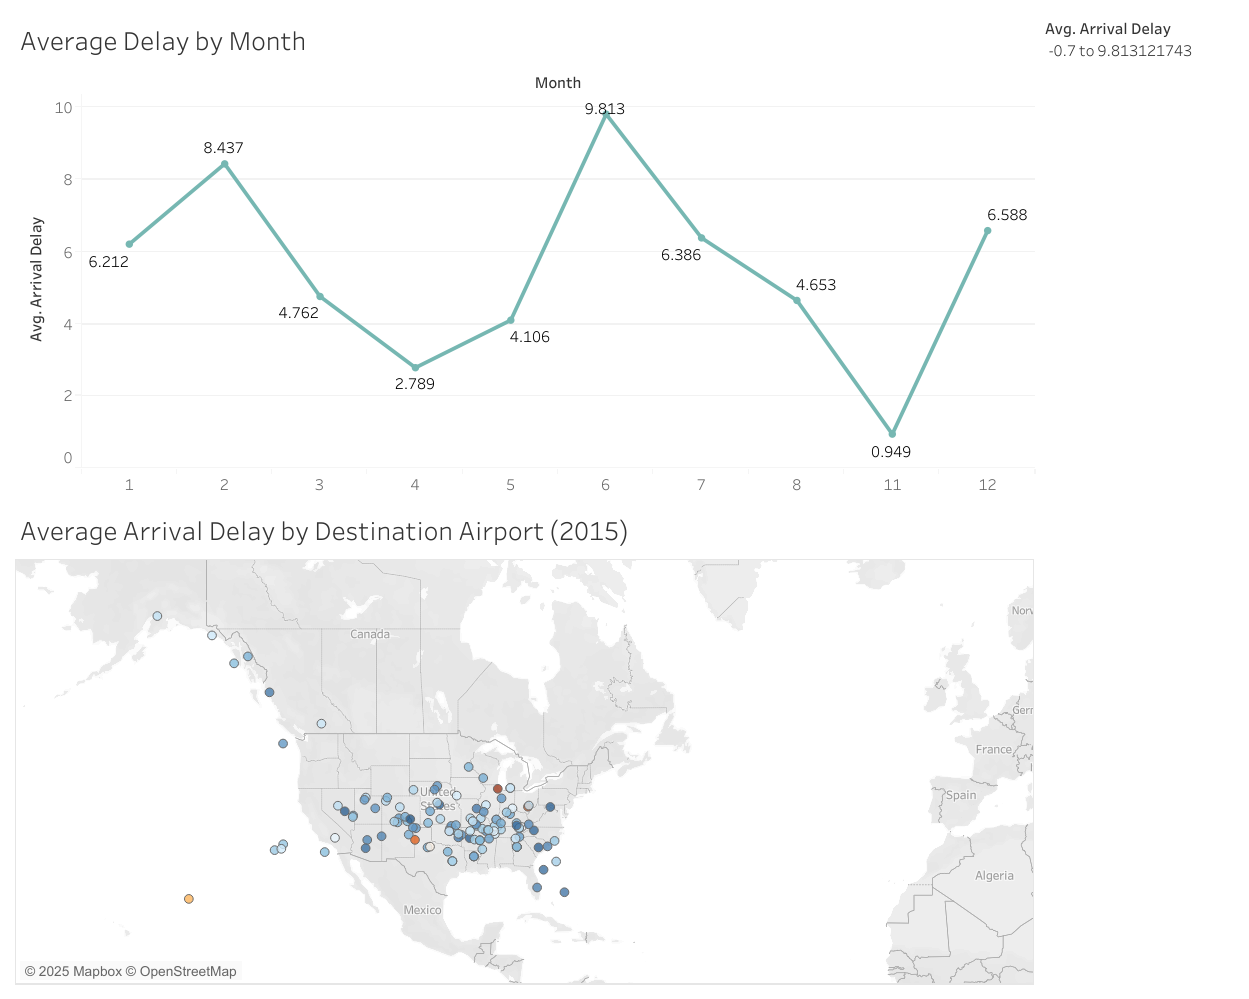

The dashboard page shown, as its layout file describes it:
{"tool":"tableau","page":{"name":"US Airline Delays: Time & Location Insights","canvas":[1000,800],"ordinal":0},"visuals":[{"type":"worksheet","title":"Average Delay by Month","mark":"Line","rows":["ARRIVAL_DELAY"],"cols":["MONTH"],"box":[8,8,824,392]},{"type":"filter","title":"Average Delay by Month","param":"[federated.1owl6ug01rj6se14pk9nd0rf96gg].[avg:ARRIVAL_DELAY:qk]","box":[832,8,160,73]},{"type":"worksheet","title":"Average Arrival Delay by Destination Airport (2015)","mark":"Multipolygon","rows":["LATITUDE (airports.csv1)"],"cols":["LONGITUDE (airports.csv1)"],"box":[8,400,824,392]}]}

Visuals, with their boxes in screenshot pixels (x1, y1, x2, y2), scaled from the page's 1000x800 canvas onto the 1249x999 screenshot:
"Average Delay by Month" worksheet (Line marks): 10:10:1039:500
"Average Delay by Month" filter: 1039:10:1239:101
"Average Arrival Delay by Destination Airport (2015)" worksheet (Multipolygon marks): 10:500:1039:989
